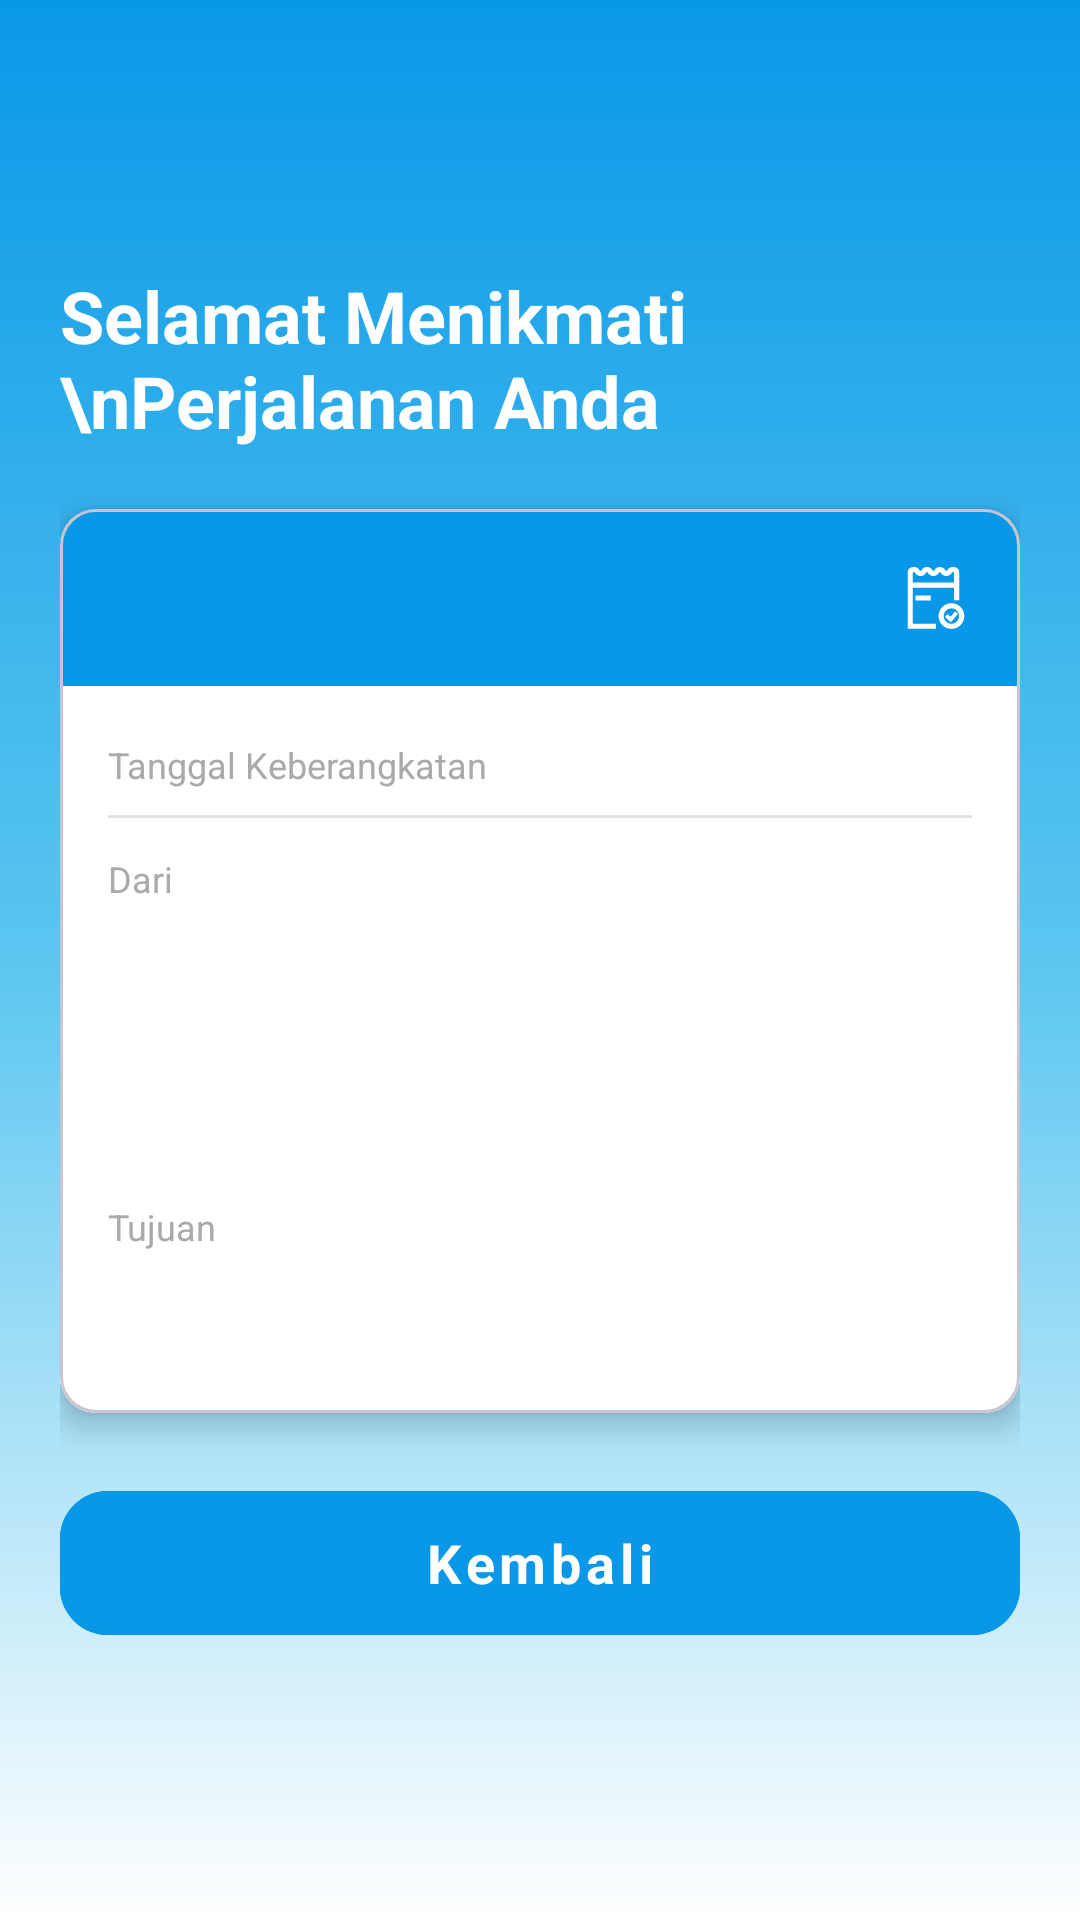

Point at icon controls on the screen. Image size 1080 × 1920, points as (x,y).
invoice: (936,598)
